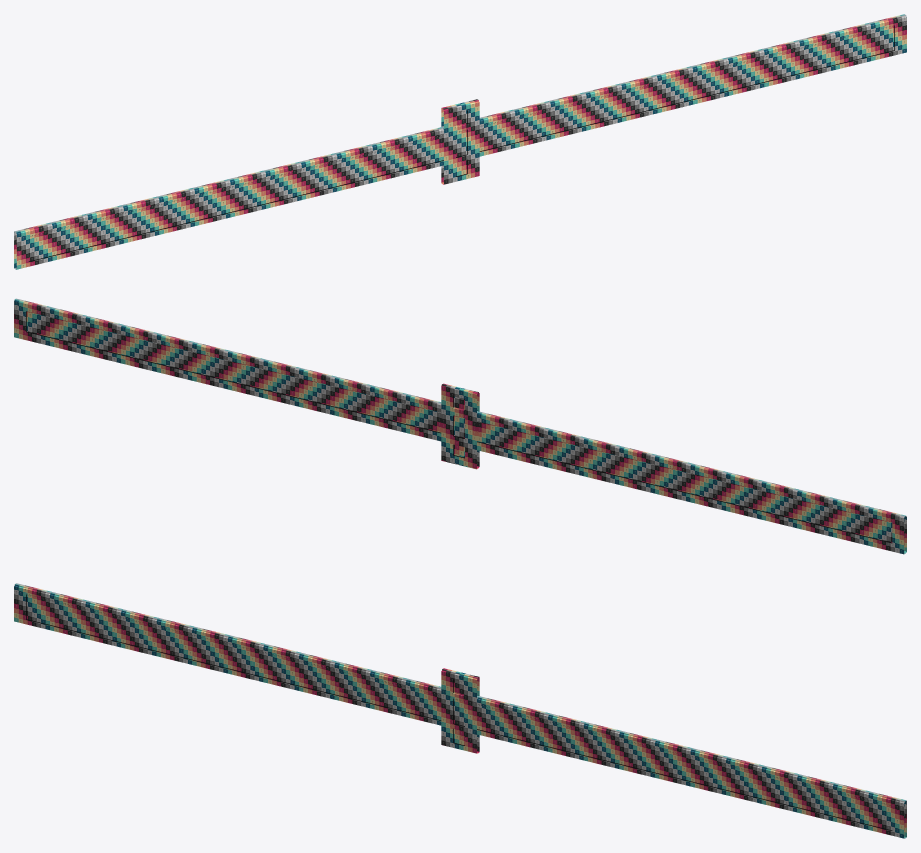
The model's file is panelLightSection.glb.
The picture shows the model from 3 angles, top to bottom: view 1: azimuth 30°, elevation 25°; view 2: azimuth 150°, elevation 25°; view 3: azimuth 330°, elevation 25°; orthographic projection.
Parts seen in each view (by area): view 1: panelLightSectionGlassMaxWidth, panelLightSectionFrameInsideMaxWidth, panelLightSectionFrameInsideMaxHeight, panelLightSectionFrameOutsideMaxWidth, panelLightSectionRubberMaxWidth, panelLightSectionFrameInside; view 2: panelLightSectionGlassMaxWidth, panelLightSectionFrameOutsideMaxWidth, panelLightSectionFrameOutsideMaxHeight, panelLightSectionFrameInsideMaxWidth, panelLightSectionRubberMaxWidth, panelLightSectionFrameOutside; view 3: panelLightSectionGlassMaxWidth, panelLightSectionFrameInsideMaxWidth, panelLightSectionFrameInsideMaxHeight, panelLightSectionFrameOutsideMaxWidth, panelLightSectionRubberMaxWidth, panelLightSectionFrameInside.
Part boxes in pixels (left/top/right/bottom): panelLightSectionGlassMaxWidth: left=28, top=26, right=894, bottom=261; panelLightSectionFrameInsideMaxWidth: left=15, top=15, right=906, bottom=269; panelLightSectionFrameInsideMaxHeight: left=443, top=100, right=479, bottom=184; panelLightSectionFrameOutsideMaxWidth: left=14, top=14, right=905, bottom=269; panelLightSectionRubberMaxWidth: left=28, top=25, right=894, bottom=261; panelLightSectionFrameInside: left=443, top=124, right=479, bottom=162; panelLightSectionGlassMaxWidth: left=26, top=311, right=892, bottom=542; panelLightSectionFrameOutsideMaxWidth: left=14, top=299, right=905, bottom=554; panelLightSectionFrameOutsideMaxHeight: left=441, top=384, right=477, bottom=469; panelLightSectionFrameInsideMaxWidth: left=16, top=298, right=906, bottom=553; panelLightSectionRubberMaxWidth: left=26, top=311, right=891, bottom=543; panelLightSectionFrameOutside: left=441, top=406, right=476, bottom=447; panelLightSectionGlassMaxWidth: left=26, top=595, right=892, bottom=830; panelLightSectionFrameInsideMaxWidth: left=14, top=584, right=905, bottom=838; panelLightSectionFrameInsideMaxHeight: left=441, top=669, right=477, bottom=753; panelLightSectionFrameOutsideMaxWidth: left=15, top=583, right=906, bottom=838; panelLightSectionRubberMaxWidth: left=26, top=594, right=892, bottom=830; panelLightSectionFrameInside: left=443, top=693, right=477, bottom=734.
Size of the model in its own units: 7.5 by 0.61 by 0.04.
4 materials, 3 textured.
